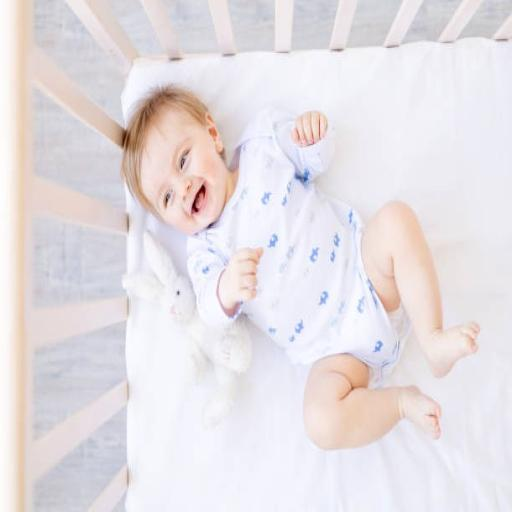baby: (122, 86, 479, 448)
crib: (0, 2, 128, 509)
